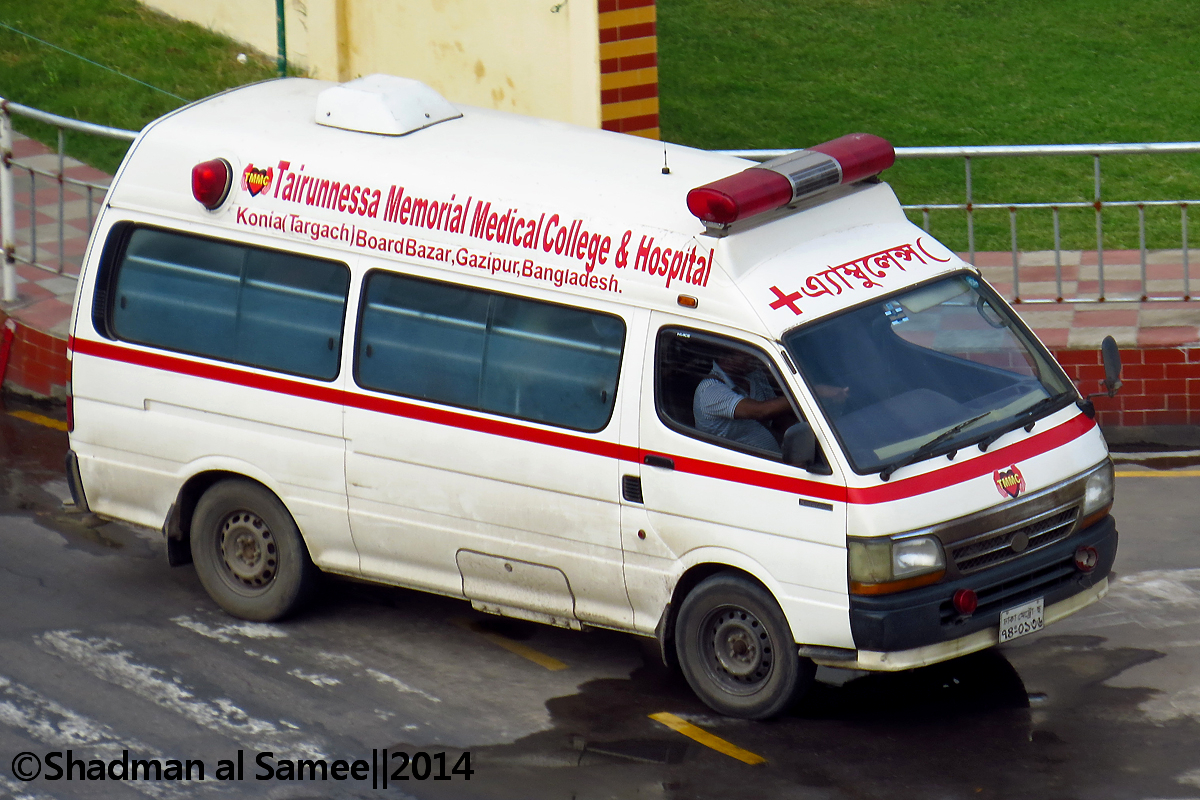Ambulance: (45, 64, 1148, 723)
